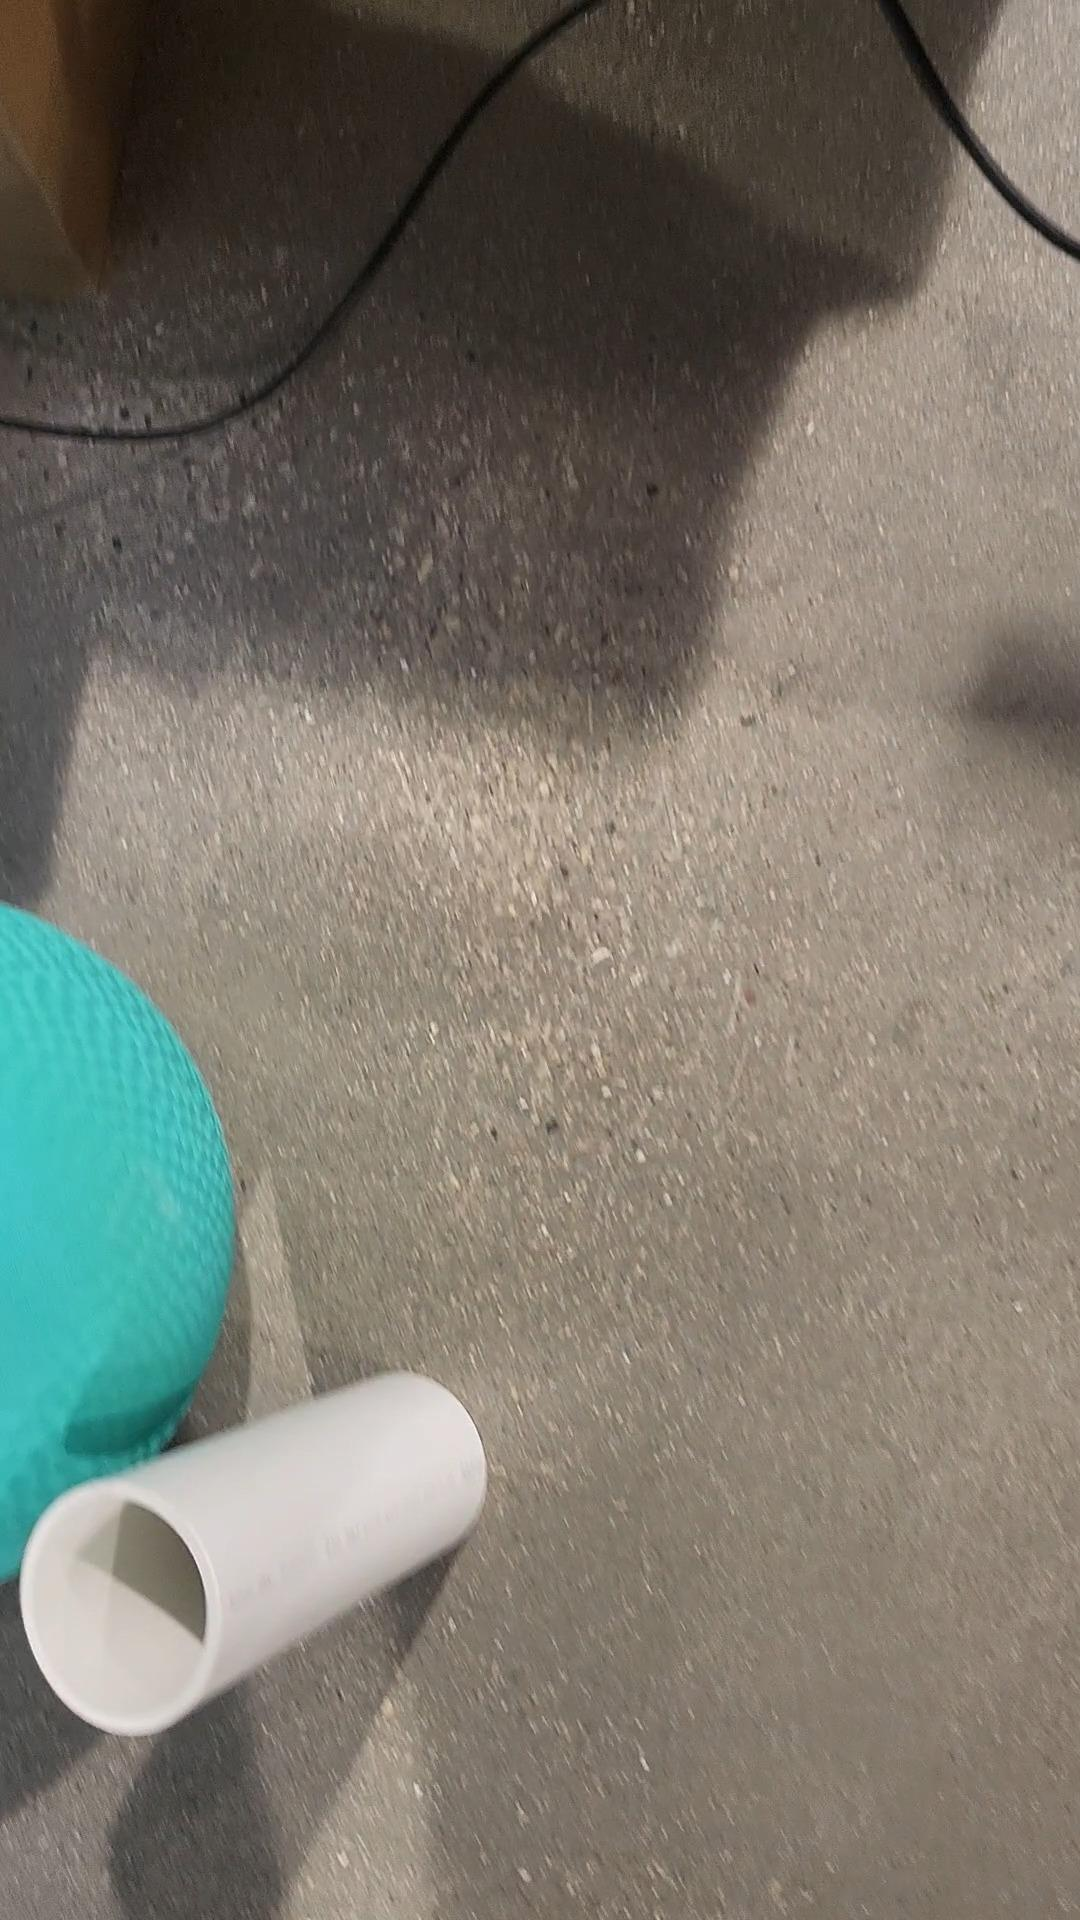algae: (0, 898, 229, 1582)
coral: (28, 1375, 485, 1733)
